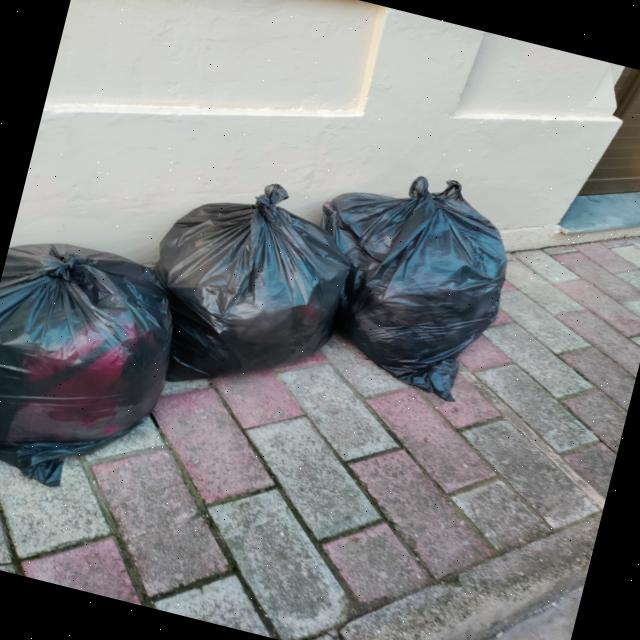Mixed Waste: (284, 151, 526, 407), (128, 160, 364, 416), (0, 228, 190, 504)
